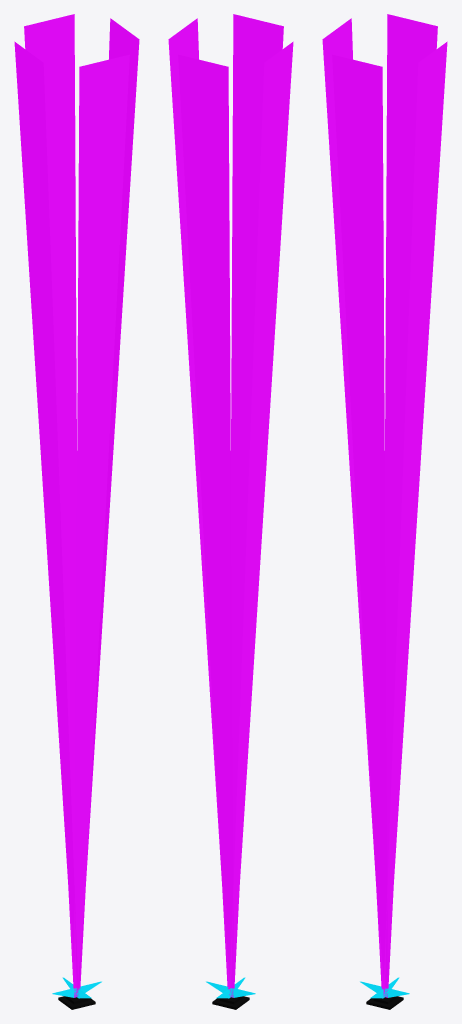
The model's file is Vertical Lights asset.glb.
3 renders of one model, left to right at view 1: azimuth 30°, elevation 25°; view 2: azimuth 150°, elevation 25°; view 3: azimuth 330°, elevation 25°, orthographic.
Visible parts, largest first — view 1: Pink.004, Pink.006, Pink.007, Pink.005, Stand.002; view 2: Pink.006, Pink.004, Pink.007, Pink.005, Stand.002; view 3: Pink.004, Pink.006, Pink.005, Pink.007, Stand.002.
Boxes of the visible parts, x1,y1,x2,y2 form: Pink.004: (74,54,129,997); Pink.006: (24,14,76,988); Pink.007: (14,41,78,996); Pink.005: (78,18,139,989); Stand.002: (58,996,95,1009); Pink.006: (178,54,233,997); Pink.004: (231,14,283,988); Pink.007: (229,41,293,997); Pink.005: (168,18,229,989); Stand.002: (212,996,249,1009); Pink.004: (332,54,387,997); Pink.006: (385,14,437,988); Pink.005: (383,41,447,997); Pink.007: (322,18,383,989); Stand.002: (366,996,403,1009).
Bounding box in the file's own units: 1.24 × 11.9 × 1.24.
